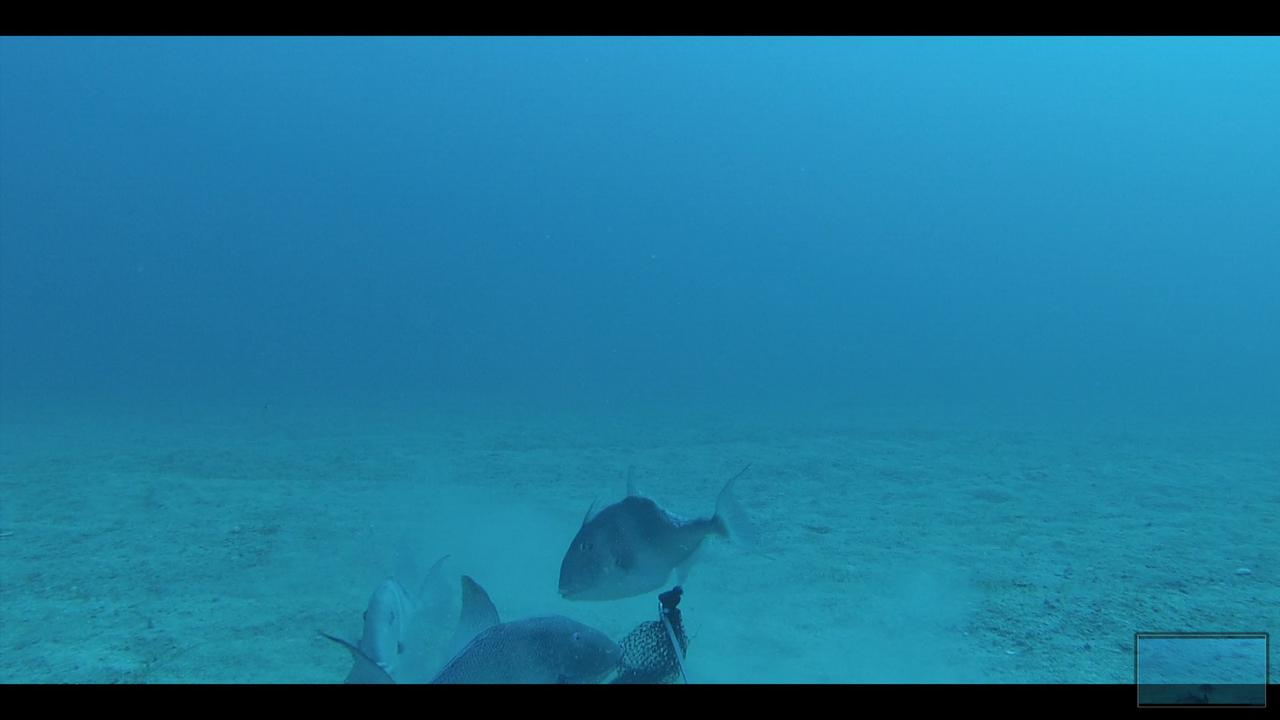balistes: (557, 457, 775, 602), (312, 608, 623, 682), (348, 540, 468, 675)
